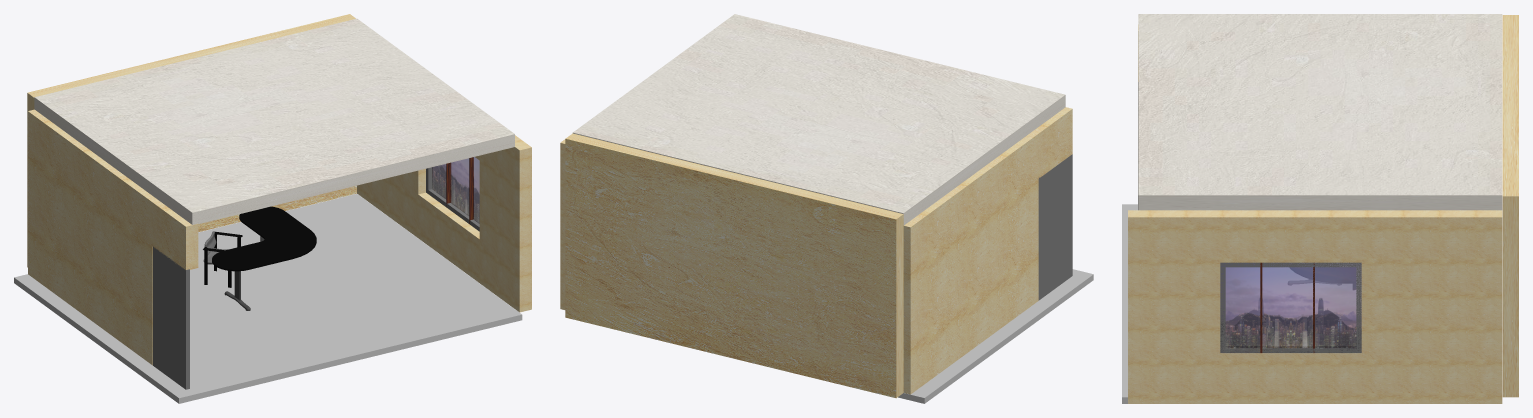
The model's file is PretestRoom.FBX.
3 renders of one model, left to right at view 1: azimuth 30°, elevation 25°; view 2: azimuth 150°, elevation 25°; view 3: azimuth 270°, elevation 25°, orthographic. The views are drawn at different scales.
Parts seen in each view (by area): view 1: room, Polyline (×4), room_floor, room_table, Box011, Box07, room_confchair, Rectangle04; view 2: Box011, room, Polyline (×4), room_floor; view 3: room, Polyline, Box07, room_floor, Box011, Rectangle04, room_table.
Boxes of the visible parts, <box> form: room: <box>34,18,514,224</box>; Polyline (×4): <box>28,109,531,389</box>; room_floor: <box>14,194,522,403</box>; room_table: <box>212,206,316,310</box>; Box011: <box>27,14,356,267</box>; Box07: <box>432,157,479,223</box>; room_confchair: <box>203,231,242,287</box>; Rectangle04: <box>426,167,479,231</box>; Box011: <box>565,133,903,398</box>; room: <box>573,14,1065,225</box>; Polyline (×4): <box>560,107,1072,394</box>; room_floor: <box>898,269,1093,403</box>; room: <box>1138,14,1502,210</box>; Polyline: <box>1128,210,1502,403</box>; Box07: <box>1220,262,1361,353</box>; room_floor: <box>1122,204,1355,403</box>; Box011: <box>1502,15,1518,397</box>; Rectangle04: <box>1220,262,1361,353</box>; room_table: <box>1288,267,1355,285</box>.
Bounding box in the file's own units: 429 × 209 × 360.
